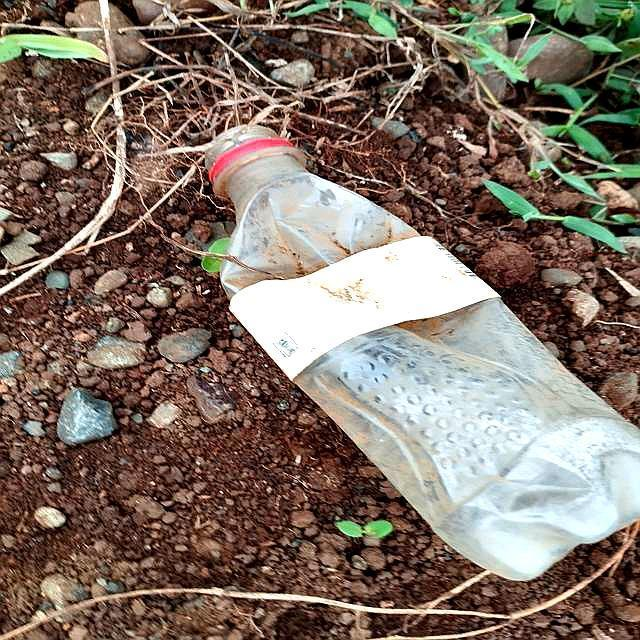Non-biodegradable: (115, 95, 640, 605)
